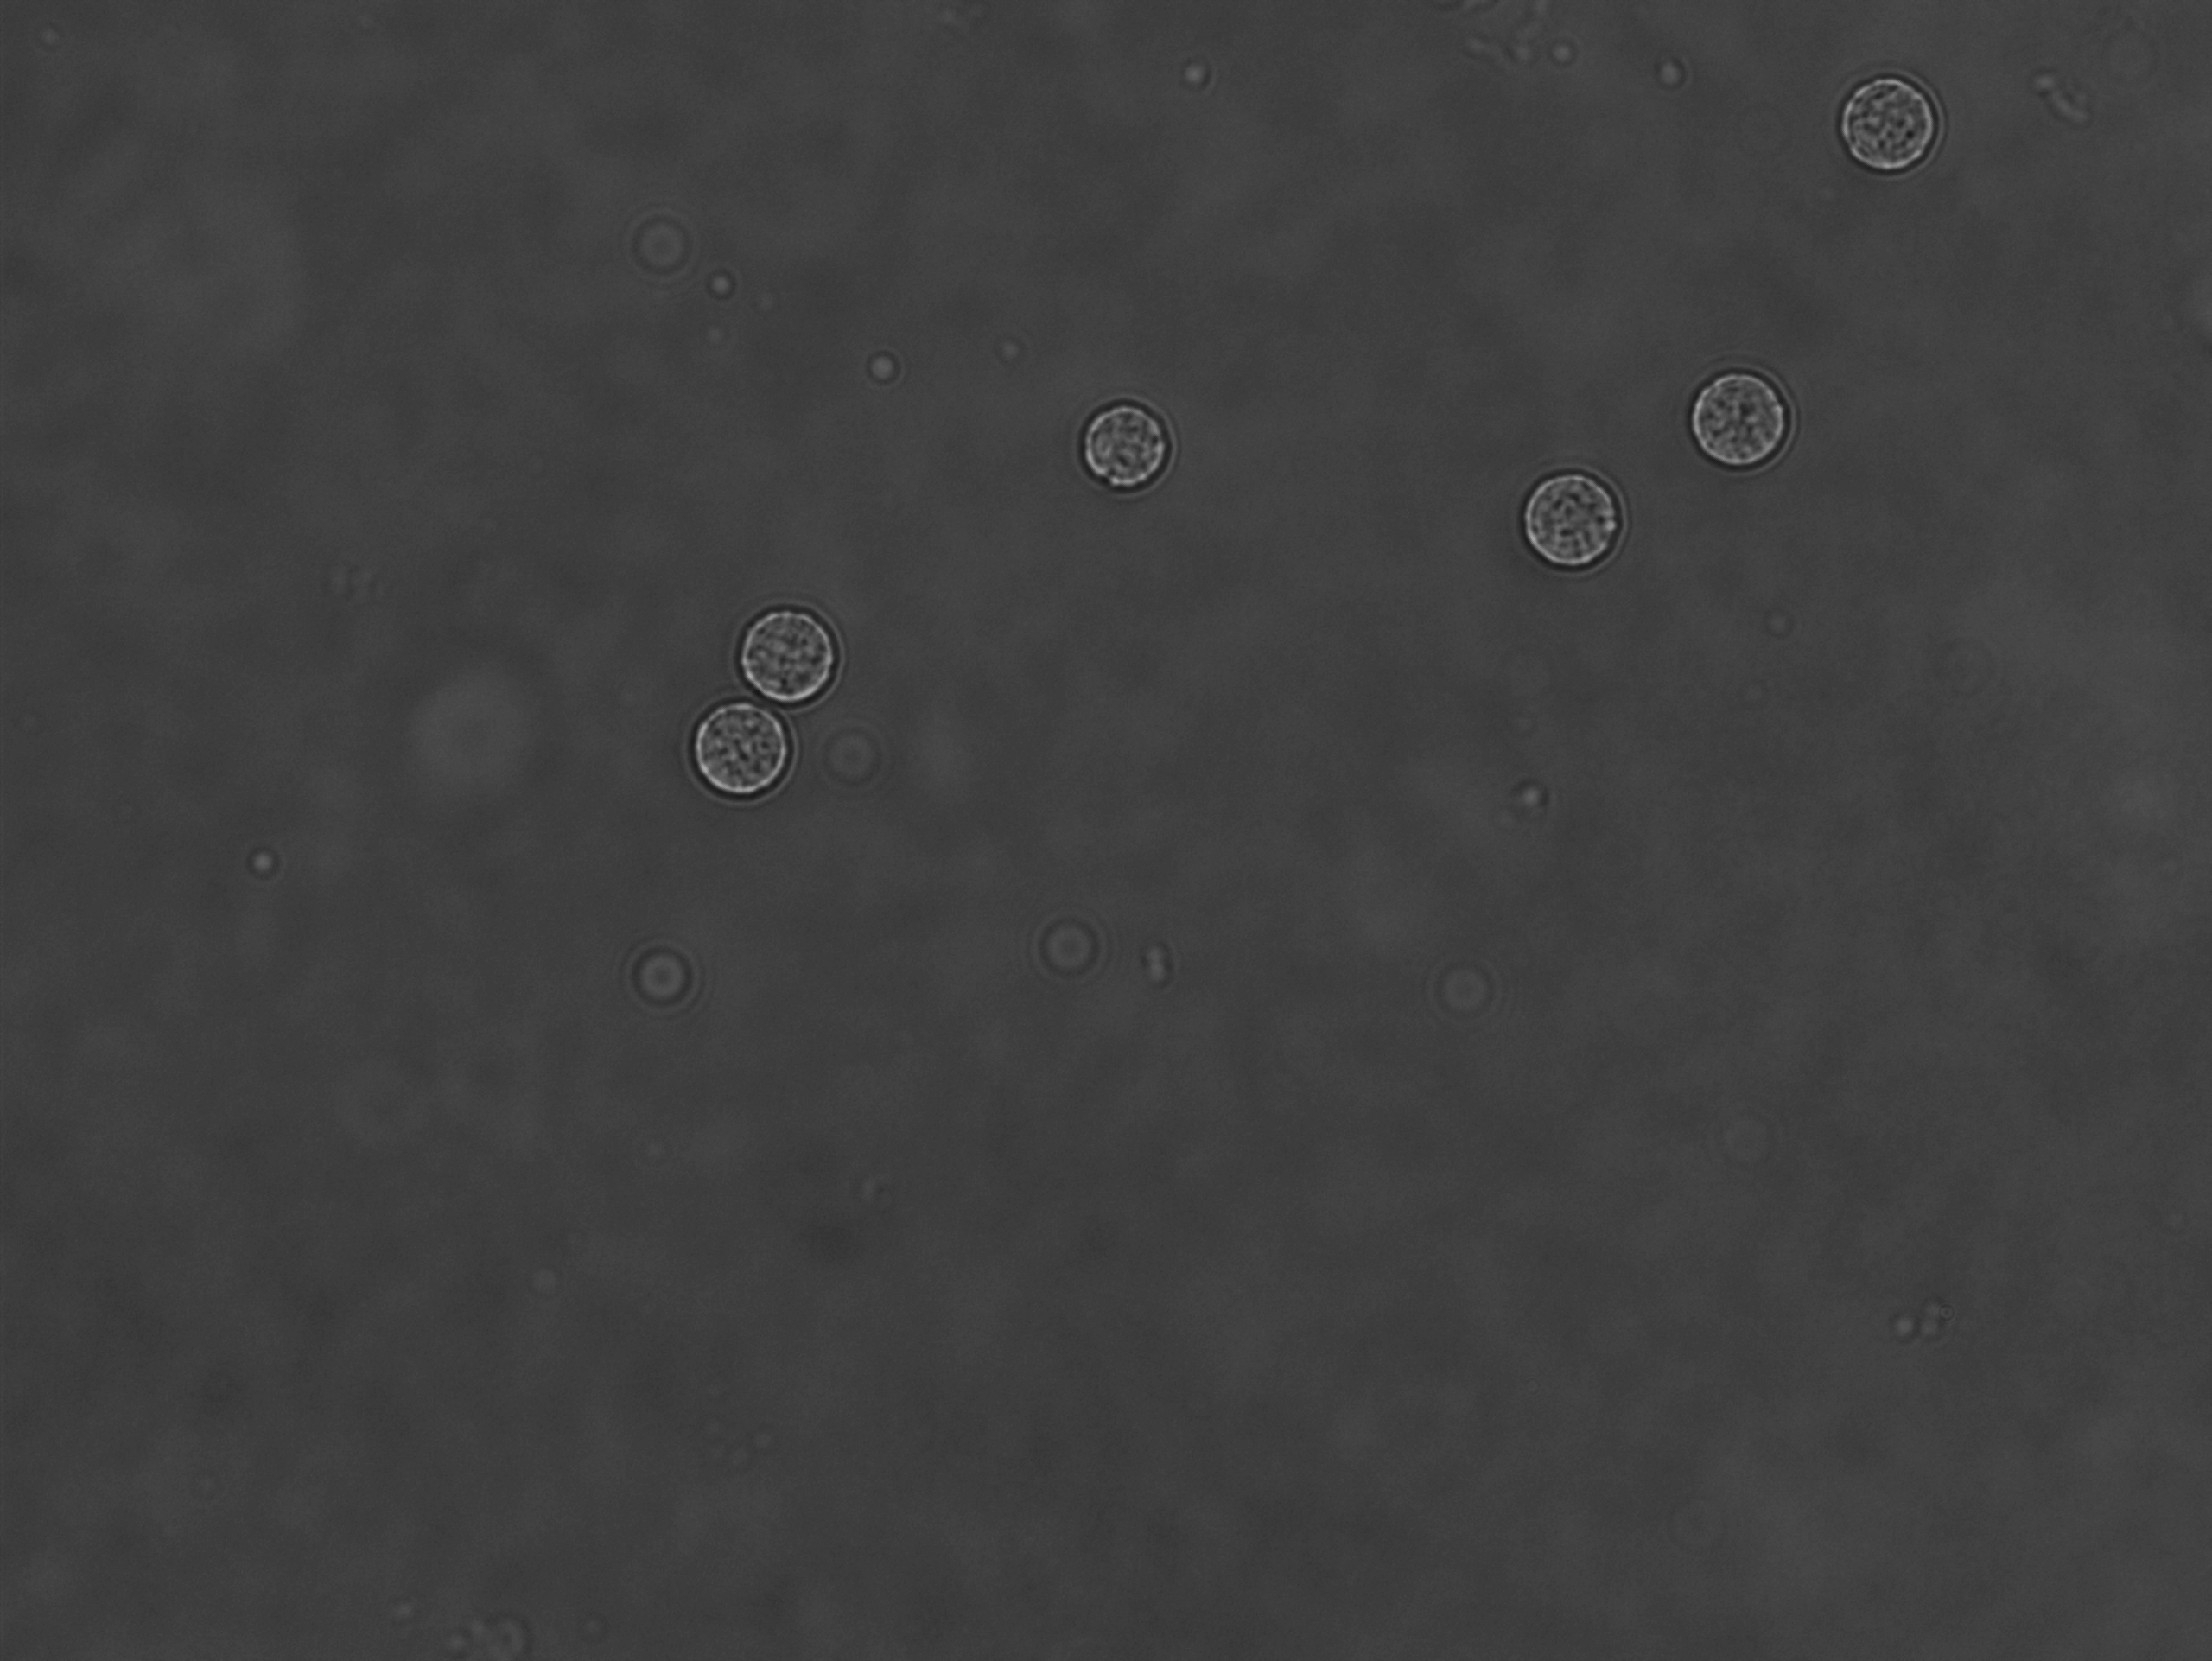depth:0: (733, 590, 883, 712), (1819, 52, 1954, 187), (1059, 379, 1181, 516), (679, 680, 818, 797), (1507, 457, 1640, 576), (1675, 356, 1809, 473)
